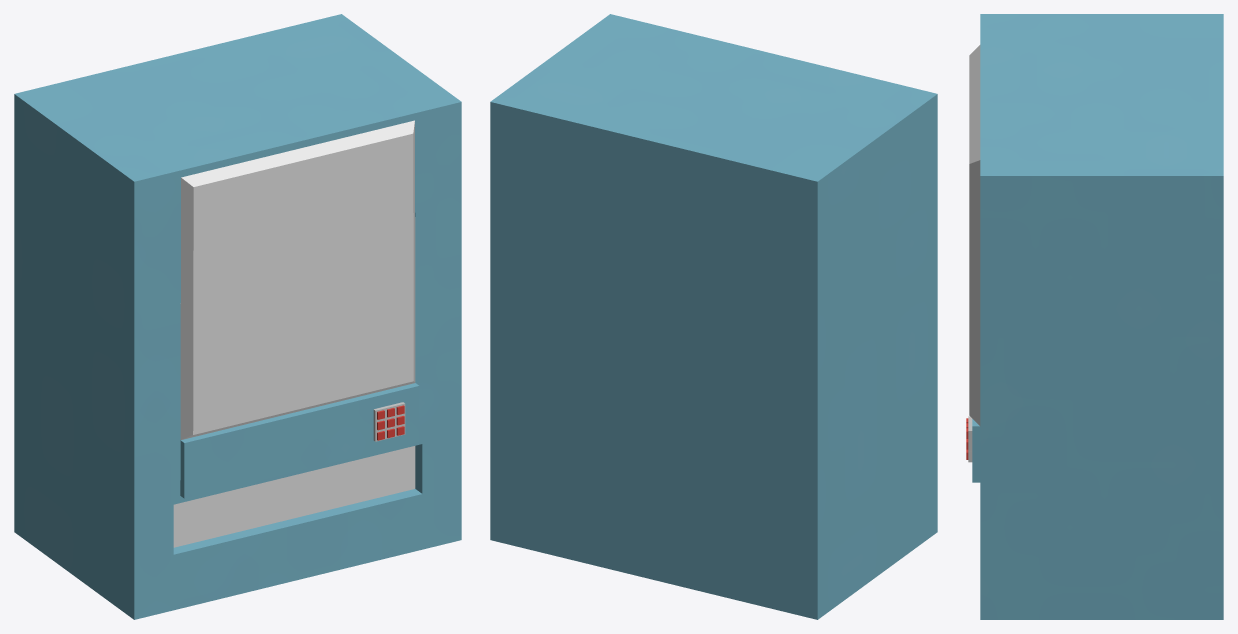
File: Vending_Machine_01.fbx
3 views of the same model, side by side, from view 1: azimuth 30°, elevation 25°; view 2: azimuth 150°, elevation 25°; view 3: azimuth 270°, elevation 25° (orthographic).
Parts seen in each view (by area): view 1: Vending_Machine_01, Vending_Machine_Window, Vending_Machine_Button; view 2: Vending_Machine_01; view 3: Vending_Machine_01, Vending_Machine_Window.
Part boxes in pixels (bbox=[...]): Vending_Machine_01: bbox=[14, 14, 461, 619]; Vending_Machine_Window: bbox=[180, 120, 415, 439]; Vending_Machine_Button: bbox=[373, 402, 405, 441]; Vending_Machine_01: bbox=[490, 14, 937, 619]; Vending_Machine_01: bbox=[972, 14, 1223, 619]; Vending_Machine_Window: bbox=[969, 45, 980, 425].
Bounding box in the file's own units: 1.64 × 2.09 × 1.1.
